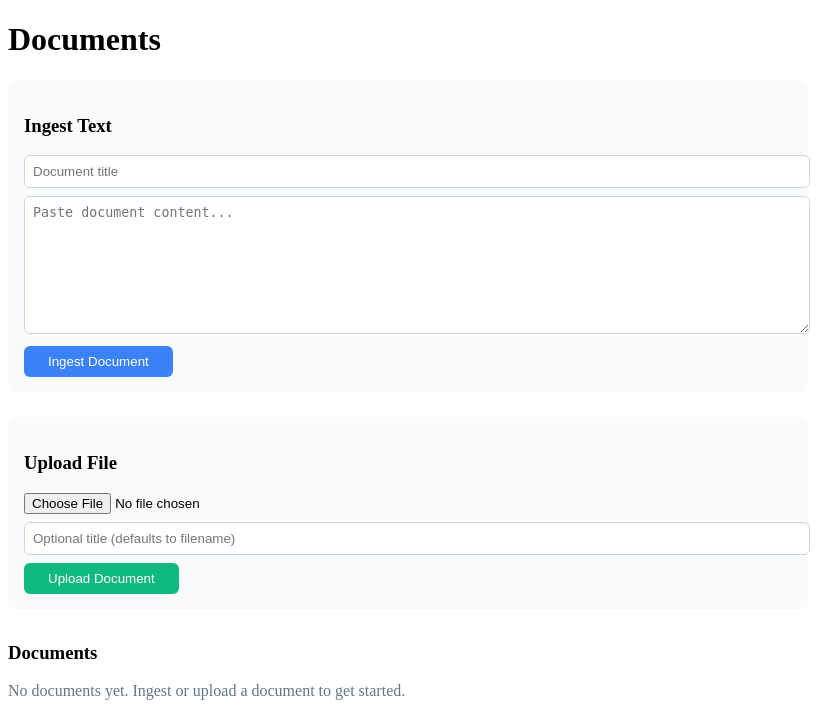
Documents › handles successful text ingestion
Step 1. Type "Test" into the field with placeholder "Document title" → (417, 172), box [24,155,810,188]
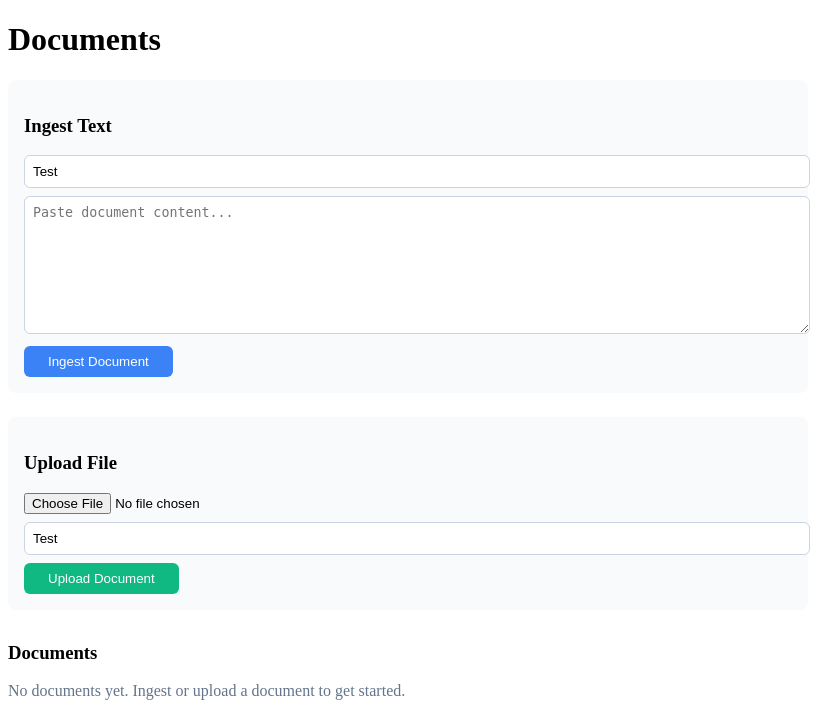
Step 2. Type "Content" into the text box with placeholder "Paste document content..." → (417, 265), box [24,196,810,334]
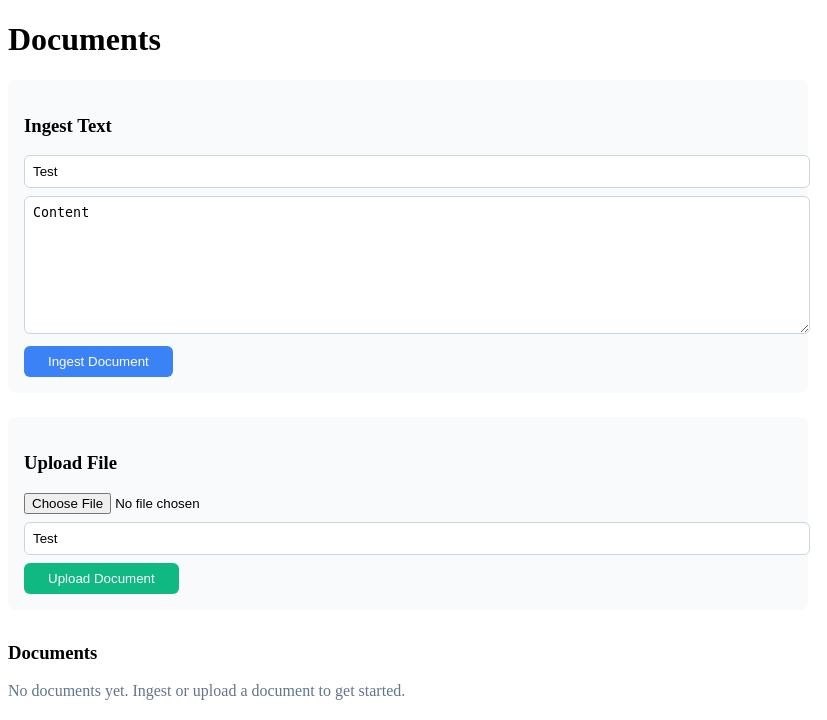
Step 3. Click the button "Ingest Document" → (98, 362), box [24,346,173,377]
(page scrolled)
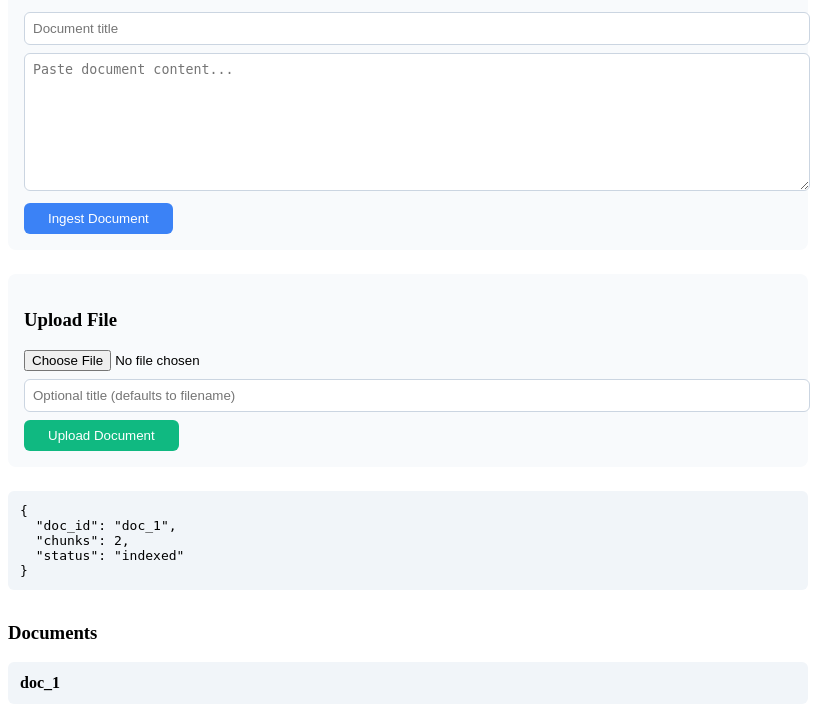
Check: the text "doc_1" is shown, box [20,674,60,692]
